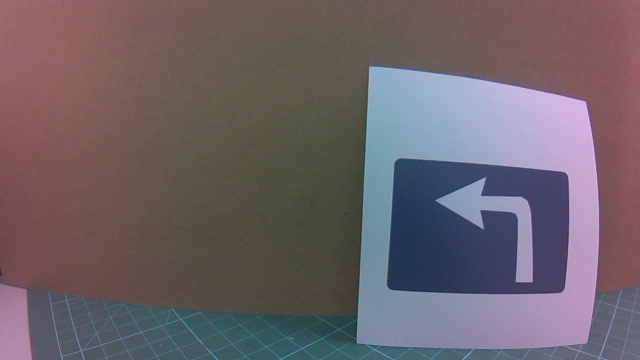left: (388, 143, 580, 311)
